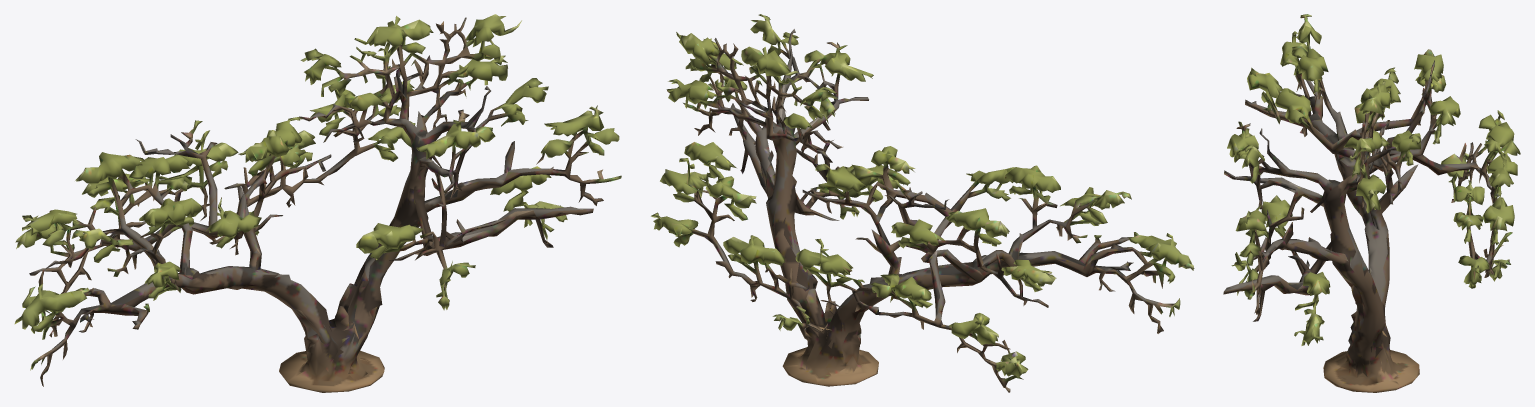
File: DeadTree.fbx
3 renders of one model, left to right at view 1: azimuth 30°, elevation 25°; view 2: azimuth 150°, elevation 25°; view 3: azimuth 270°, elevation 25°, orthographic. The views are drawn at different scales.
Visible parts, largest first — view 1: DeadTree; view 2: DeadTree; view 3: DeadTree.
Part boxes in pixels (<box>): DeadTree: <box>14,14,621,392</box>; DeadTree: <box>651,14,1194,392</box>; DeadTree: <box>1223,14,1520,392</box>.
Size of the model in its own units: 6.99 by 3.87 by 3.24.
1 material, 1 textured.
